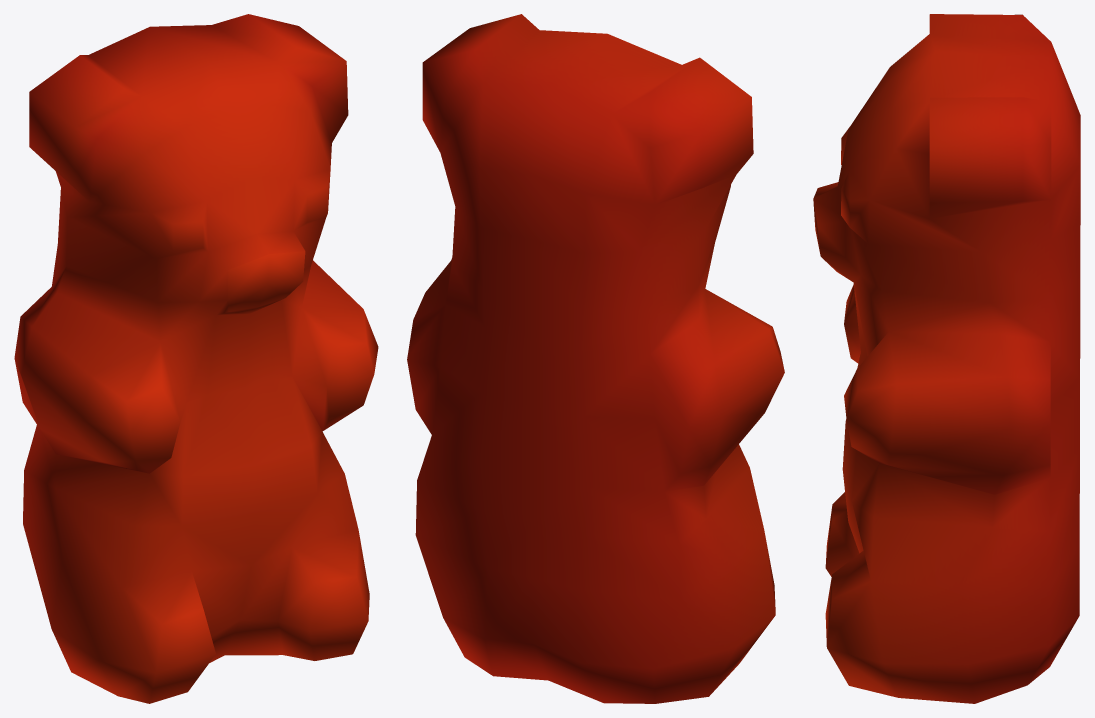
The model's file is Gummybear_Regular.fbx.
3 renders of one model, left to right at view 1: azimuth 30°, elevation 25°; view 2: azimuth 150°, elevation 25°; view 3: azimuth 270°, elevation 25°, orthographic. The views are drawn at different scales.
Parts seen in each view (by area): view 1: Gummybear_Regular; view 2: Gummybear_Regular; view 3: Gummybear_Regular.
Boxes of the visible parts, left/top/right/bottom form: Gummybear_Regular: left=14, top=14, right=378, bottom=703; Gummybear_Regular: left=407, top=14, right=784, bottom=703; Gummybear_Regular: left=813, top=14, right=1080, bottom=703.
Size of the model in its own units: 12.27 by 23.54 by 9.52.
